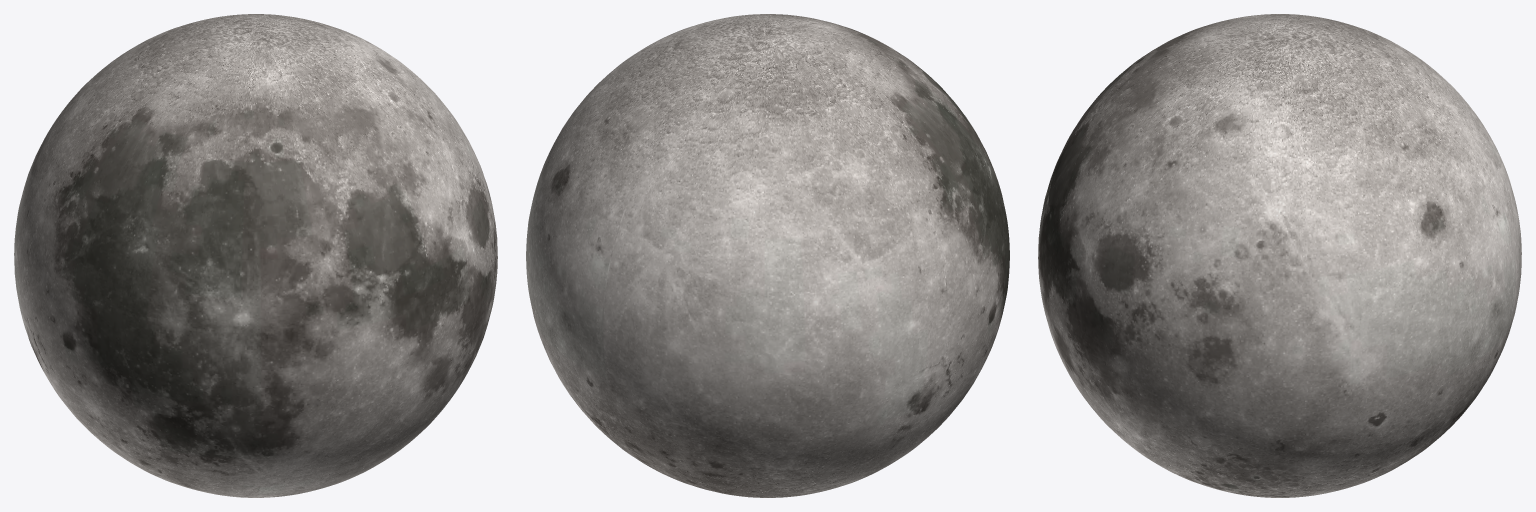
The model's file is moon.gltf.
3 views of the same model, side by side, from view 1: azimuth 30°, elevation 25°; view 2: azimuth 150°, elevation 25°; view 3: azimuth 270°, elevation 25° (orthographic).
Parts seen in each view (by area): view 1: node_id36; view 2: node_id36; view 3: node_id36.
Boxes of the visible parts, x1,y1,x2,y2 form: node_id36: (14, 14, 497, 497); node_id36: (526, 14, 1009, 497); node_id36: (1038, 14, 1521, 497).
Size of the model in its own units: 0.5119 by 0.512 by 0.5119.
